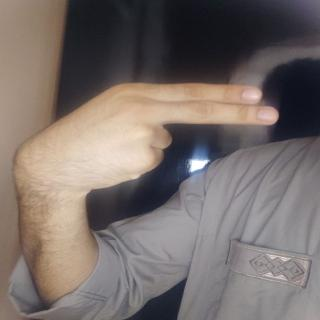AYN: (1, 74, 284, 204)
